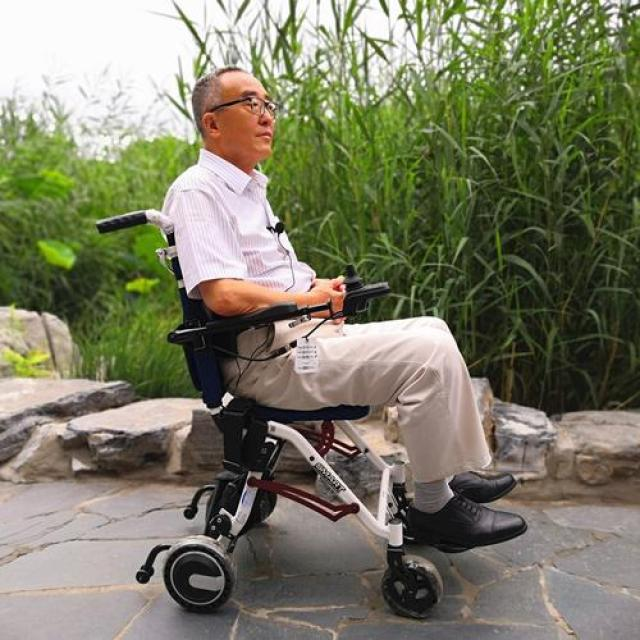wheelchairs: (82, 194, 496, 628)
